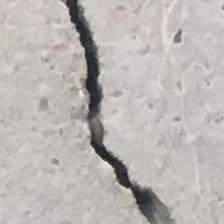Crack: (46, 0, 180, 224)
